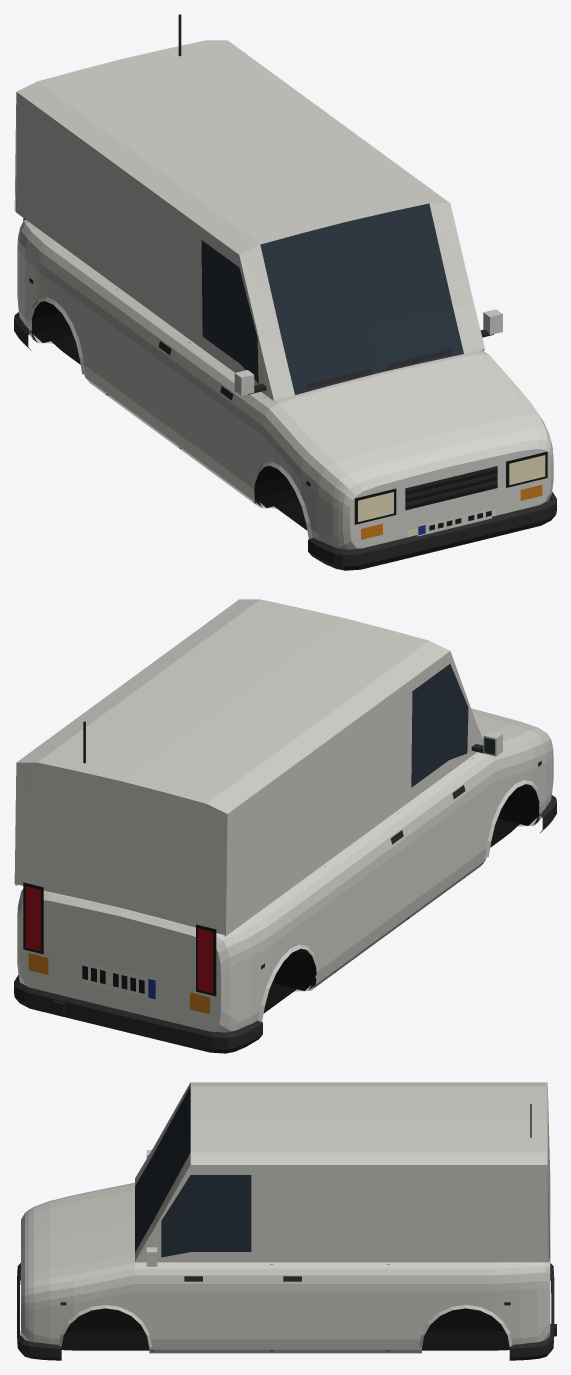
Rendered from citroen-c15.glb.
3 views of the same model, one above another, from view 1: azimuth 30°, elevation 25°; view 2: azimuth 150°, elevation 25°; view 3: azimuth 270°, elevation 25° (orthographic). The views are drawn at different scales.
Parts seen in each view (by area): view 1: LOD0, door_RR, door_FR; view 2: LOD0, door_RR, door_FR; view 3: LOD0, door_RL, door_FL.
Boxes of the visible parts, x1,y1,x2,y2 form: LOD0: (14, 14, 556, 570); door_RR: (104, 165, 186, 444); door_FR: (178, 220, 264, 499); LOD0: (14, 599, 556, 1053); door_RR: (325, 690, 410, 968); door_FR: (401, 651, 485, 914); LOD0: (17, 1082, 556, 1360); door_RL: (273, 1165, 388, 1349); door_FL: (152, 1165, 269, 1349).
Size of what is drawn, in the model's own units: 1.83 by 1.92 by 4.1.
